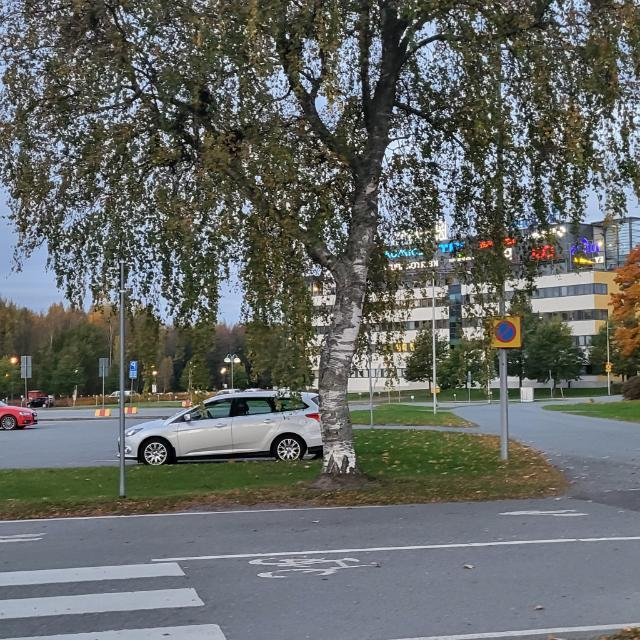birch: (182, 1, 448, 490)
